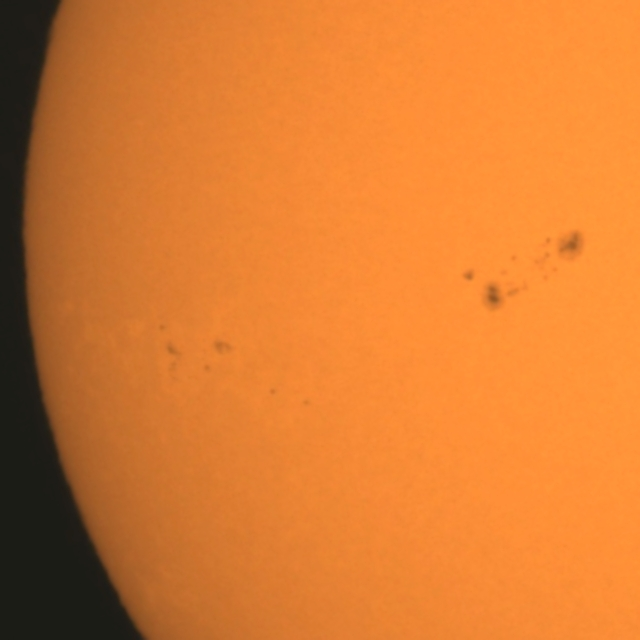sunspot: (526, 229, 588, 286), (158, 341, 220, 385), (200, 338, 233, 375), (159, 324, 185, 366), (163, 340, 183, 378), (209, 337, 236, 360), (459, 266, 478, 285), (201, 362, 214, 376), (300, 396, 313, 409), (156, 322, 167, 334), (268, 386, 278, 398)
